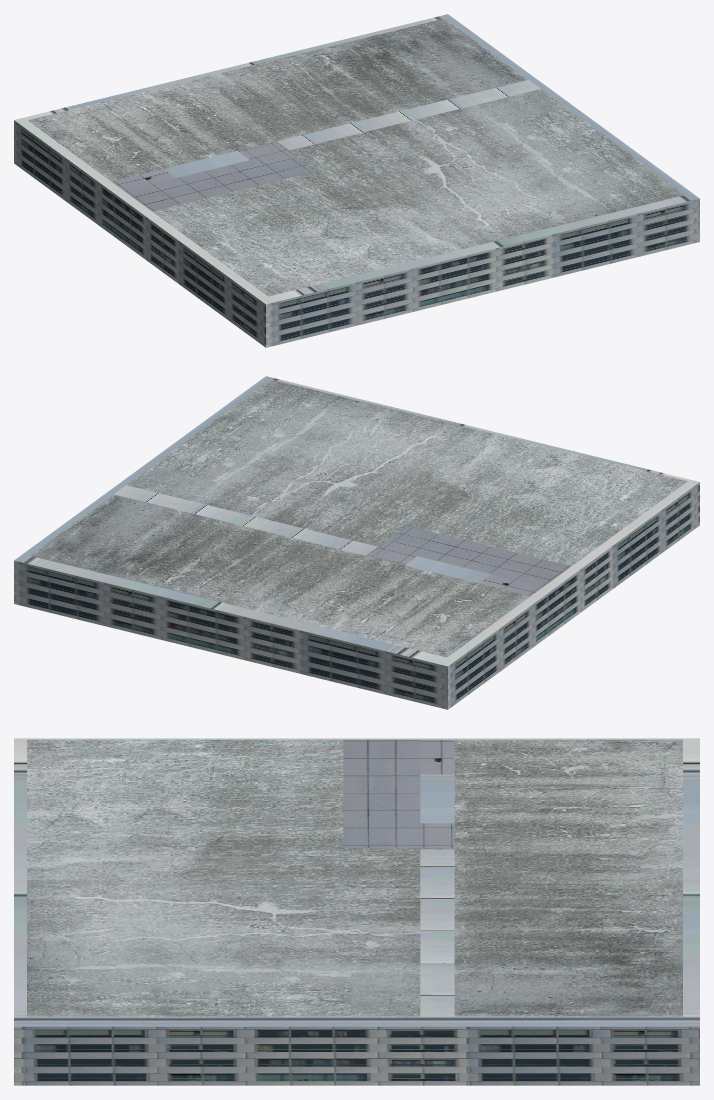
Rendered from BagSS06top_0.fbx.
The picture shows the model from 3 angles, top to bottom: view 1: azimuth 30°, elevation 25°; view 2: azimuth 150°, elevation 25°; view 3: azimuth 270°, elevation 25°; orthographic projection. The views are drawn at different scales.
Visible parts, largest first — view 1: topRoofA0, baseBox0, topRoofAA0, topRoof0; view 2: topRoofA0, baseBox0, topRoofAA0, topRoof0; view 3: topRoofA0, baseBox0, topRoofAA0, topRoof0.
Boxes of the visible parts, x1,y1,x2,y2 form: topRoofA0: (28, 18, 685, 296); baseBox0: (14, 14, 699, 347); topRoofAA0: (112, 142, 314, 211); topRoof0: (277, 80, 540, 150); topRoofA0: (30, 379, 687, 657); baseBox0: (14, 376, 699, 709); topRoofAA0: (368, 526, 571, 595); topRoof0: (114, 485, 377, 555); topRoofA0: (27, 739, 682, 1016); baseBox0: (14, 738, 699, 1085); topRoofAA0: (343, 739, 454, 847); topRoof0: (420, 849, 454, 1016).
Bounding box in the file's own units: 39.89 × 4.04 × 40.11.
